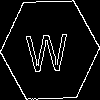W: (25, 25, 68, 72)
